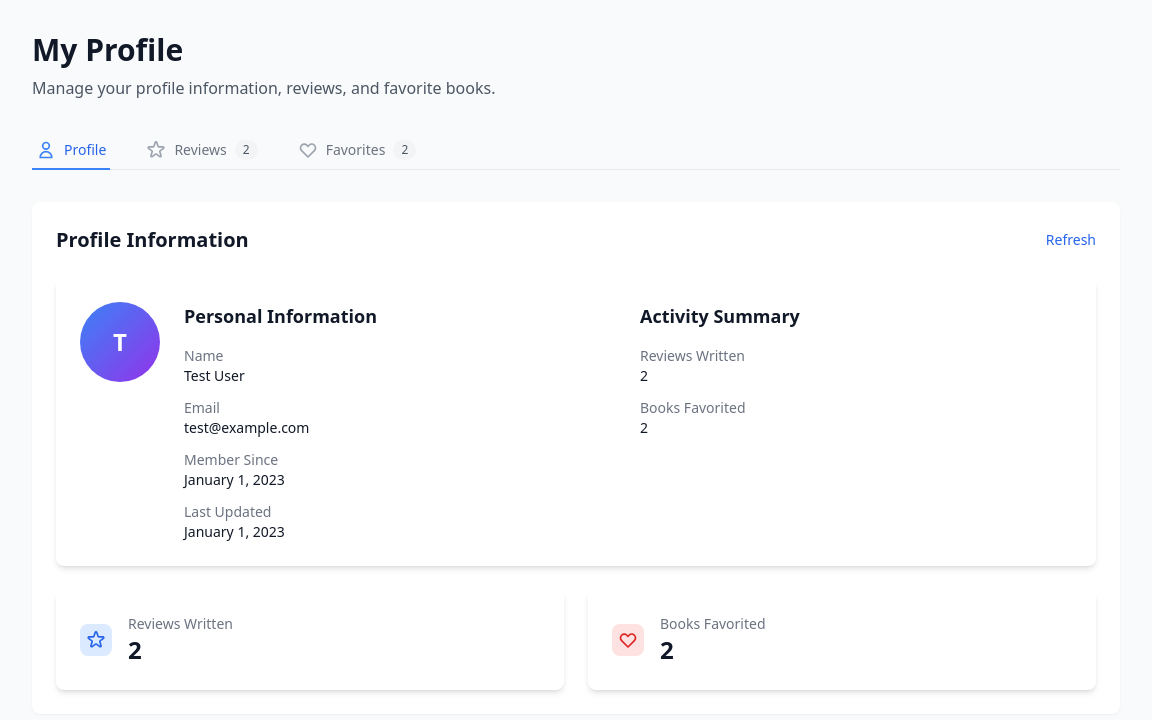
Test: User Profile Workflow Integration Tests › Favorites Management Workflow › should handle empty favorites
Note: Switch to favorites tab
Click the button "Favorites 2" at (357, 151), box [294,132,420,170]
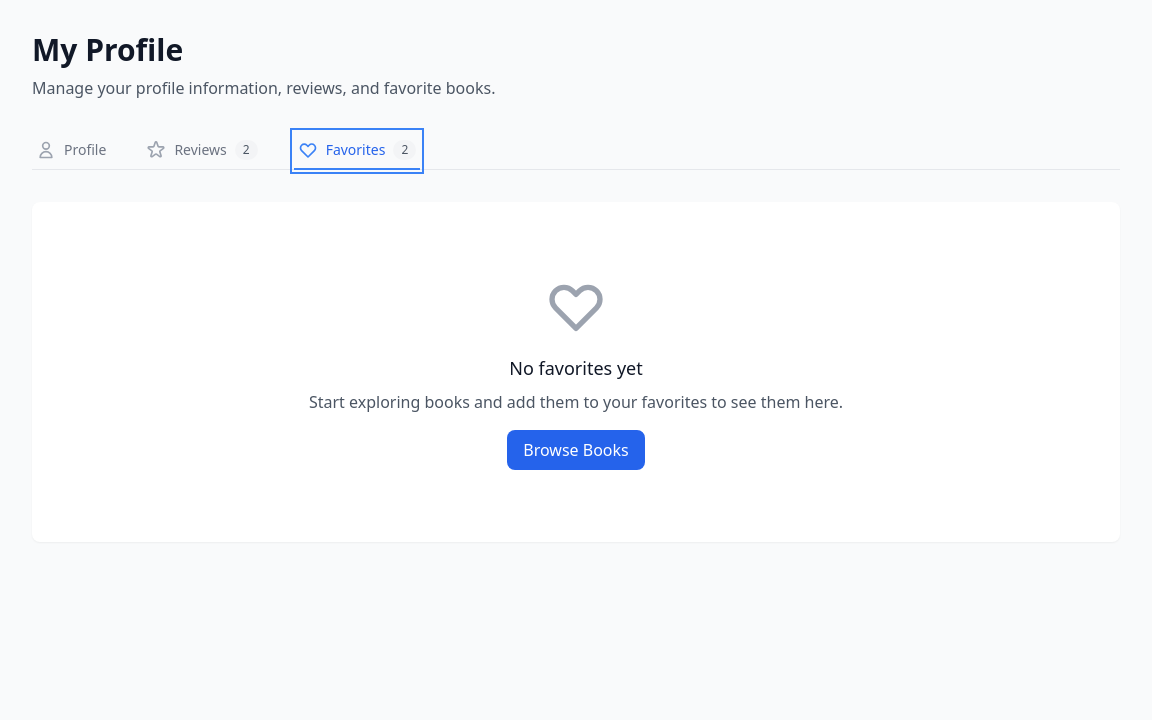
Check: the heading "No favorites yet" is shown, box [509,356,643,380]
